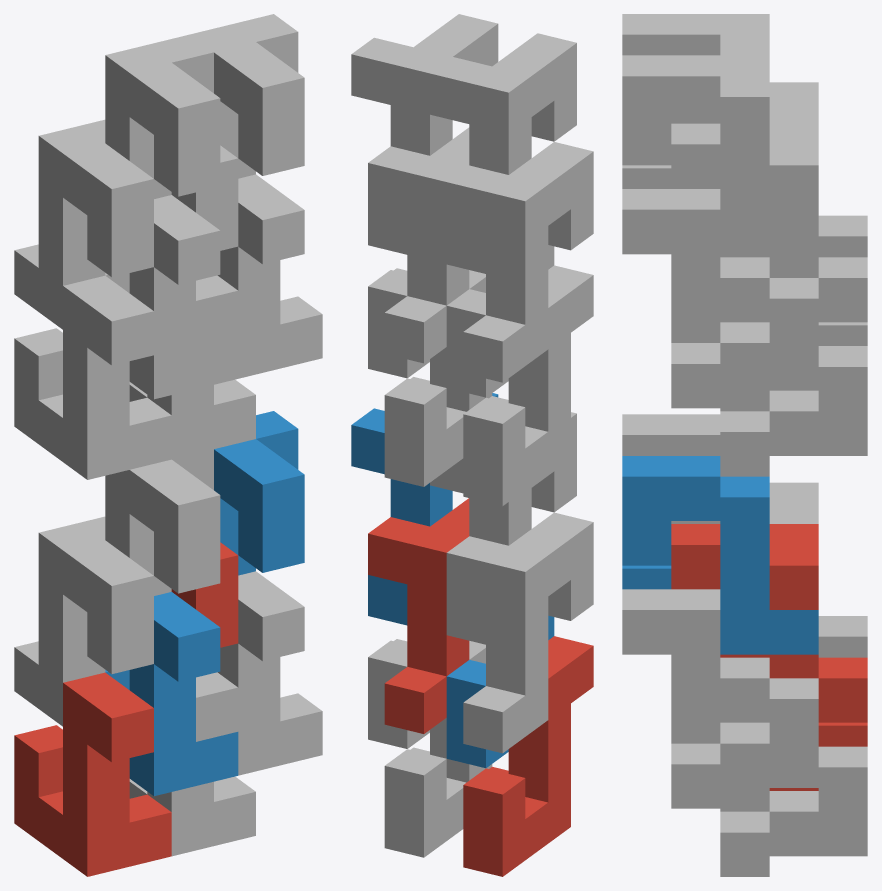
File: tiling.obj
The picture shows the model from 3 angles, left to right: view 1: azimuth 30°, elevation 25°; view 2: azimuth 150°, elevation 25°; view 3: azimuth 270°, elevation 25°; orthographic projection. The views are drawn at different scales.
Parts seen in each view (by area): view 1: copy_1_domain_1, copy_1_domain_3, copy_2_domain_1, copy_2_domain_3, copy_2_domain_4, copy_1_domain_4, copy_1_domain_2, copy_2_domain_2, copy_2_domain_8, copy_1_domain_8, copy_1_domain_6, copy_2_domain_6 (+4 smaller); view 2: copy_2_domain_1, copy_2_domain_3, copy_2_domain_4, copy_1_domain_1, copy_1_domain_3, copy_2_domain_7, copy_2_domain_5, copy_2_domain_8, copy_1_domain_5, copy_1_domain_7, copy_2_domain_2, copy_2_domain_6 (+4 smaller); view 3: copy_1_domain_6, copy_1_domain_8, copy_2_domain_8, copy_2_domain_6, copy_1_domain_7, copy_1_domain_5, copy_2_domain_7, copy_2_domain_5, copy_2_domain_4, copy_2_domain_3, copy_2_domain_1, copy_2_domain_2 (+4 smaller).
Boxes of the visible parts, <box> form: copy_1_domain_1: <box>14,672,171,876</box>; copy_1_domain_3: <box>14,275,171,479</box>; copy_2_domain_1: <box>14,516,153,726</box>; copy_2_domain_3: <box>14,119,153,329</box>; copy_2_domain_4: <box>105,34,220,198</box>; copy_1_domain_4: <box>105,195,238,399</box>; copy_1_domain_2: <box>105,592,238,796</box>; copy_2_domain_2: <box>105,449,220,595</box>; copy_2_domain_8: <box>190,14,304,178</box>; copy_1_domain_8: <box>217,174,322,378</box>; copy_1_domain_6: <box>218,571,322,775</box>; copy_2_domain_6: <box>214,411,304,575</box>; copy_2_domain_1: <box>446,512,593,753</box>; copy_2_domain_3: <box>446,142,593,382</box>; copy_2_domain_4: <box>430,33,576,273</box>; copy_1_domain_1: <box>463,636,593,876</box>; copy_1_domain_3: <box>463,265,593,506</box>; copy_2_domain_7: <box>368,127,469,363</box>; copy_2_domain_5: <box>368,498,469,733</box>; copy_2_domain_8: <box>351,14,498,254</box>; copy_1_domain_5: <box>384,641,492,857</box>; copy_1_domain_7: <box>384,270,492,486</box>; copy_2_domain_2: <box>430,412,576,644</box>; copy_2_domain_6: <box>351,393,498,625</box>; copy_1_domain_6: <box>622,589,818,808</box>; copy_1_domain_8: <box>622,189,818,408</box>; copy_2_domain_8: <box>622,55,818,254</box>; copy_2_domain_6: <box>622,456,818,654</box>; copy_1_domain_7: <box>720,257,867,476</box>; copy_1_domain_5: <box>720,657,867,876</box>; copy_2_domain_7: <box>671,123,867,322</box>; copy_2_domain_5: <box>671,524,867,722</box>; copy_2_domain_4: <box>622,14,769,55</box>; copy_2_domain_3: <box>671,82,867,257</box>; copy_2_domain_1: <box>671,482,867,657</box>; copy_2_domain_2: <box>622,414,720,455</box>.
Size of the model in its own units: 5 by 18 by 5.
